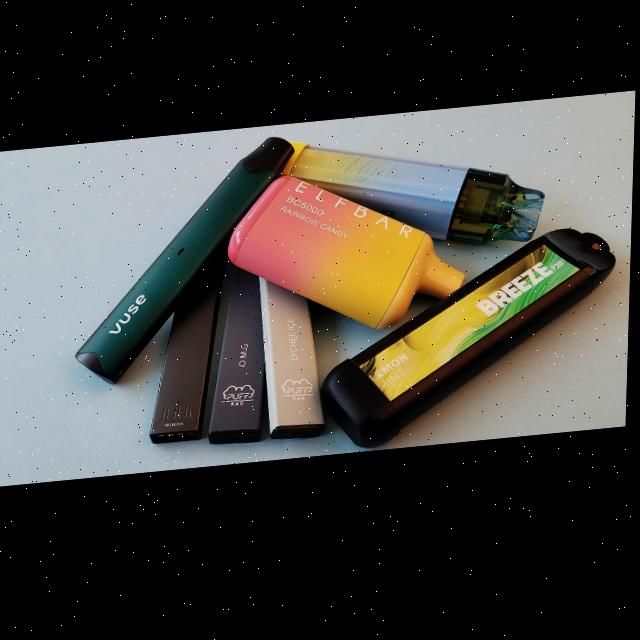vape: (324, 240, 618, 455), (79, 142, 296, 386), (229, 182, 467, 339), (282, 148, 546, 254), (152, 249, 229, 448), (262, 283, 328, 445), (211, 271, 269, 449)
